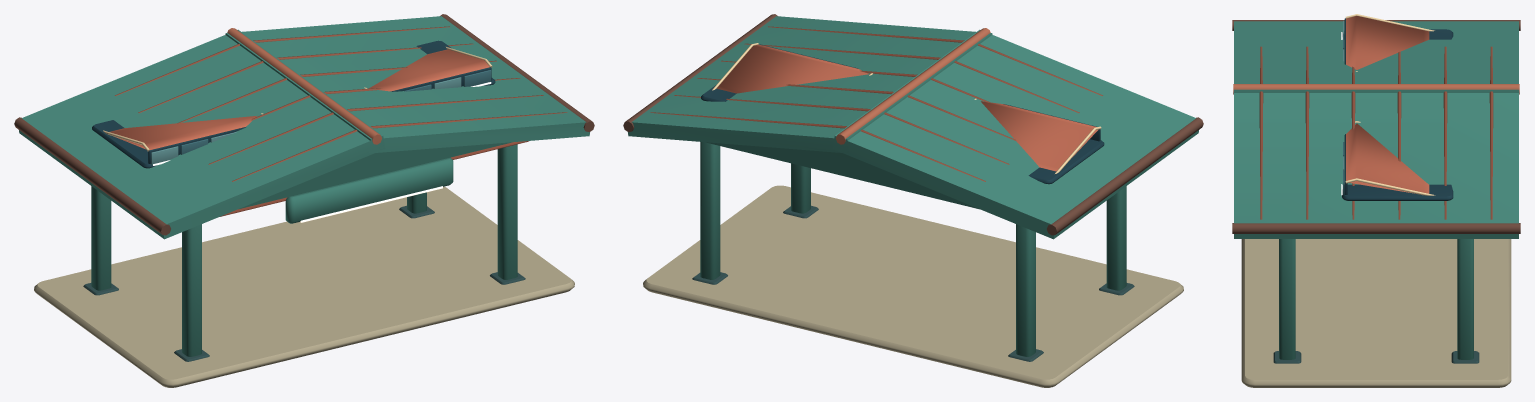
Rendered from tropical_fuel.glb.
3 views of the same model, side by side, from view 1: azimuth 30°, elevation 25°; view 2: azimuth 150°, elevation 25°; view 3: azimuth 270°, elevation 25° (orthographic).
Parts seen in each view (by area): view 1: TropicalFuel; view 2: TropicalFuel; view 3: TropicalFuel.
Boxes of the visible parts, bbox=[...] form: TropicalFuel: bbox=[14, 14, 594, 387]; TropicalFuel: bbox=[623, 14, 1203, 387]; TropicalFuel: bbox=[1232, 14, 1520, 387].
Size of the model in its own units: 8.79 by 4.06 by 5.15.
